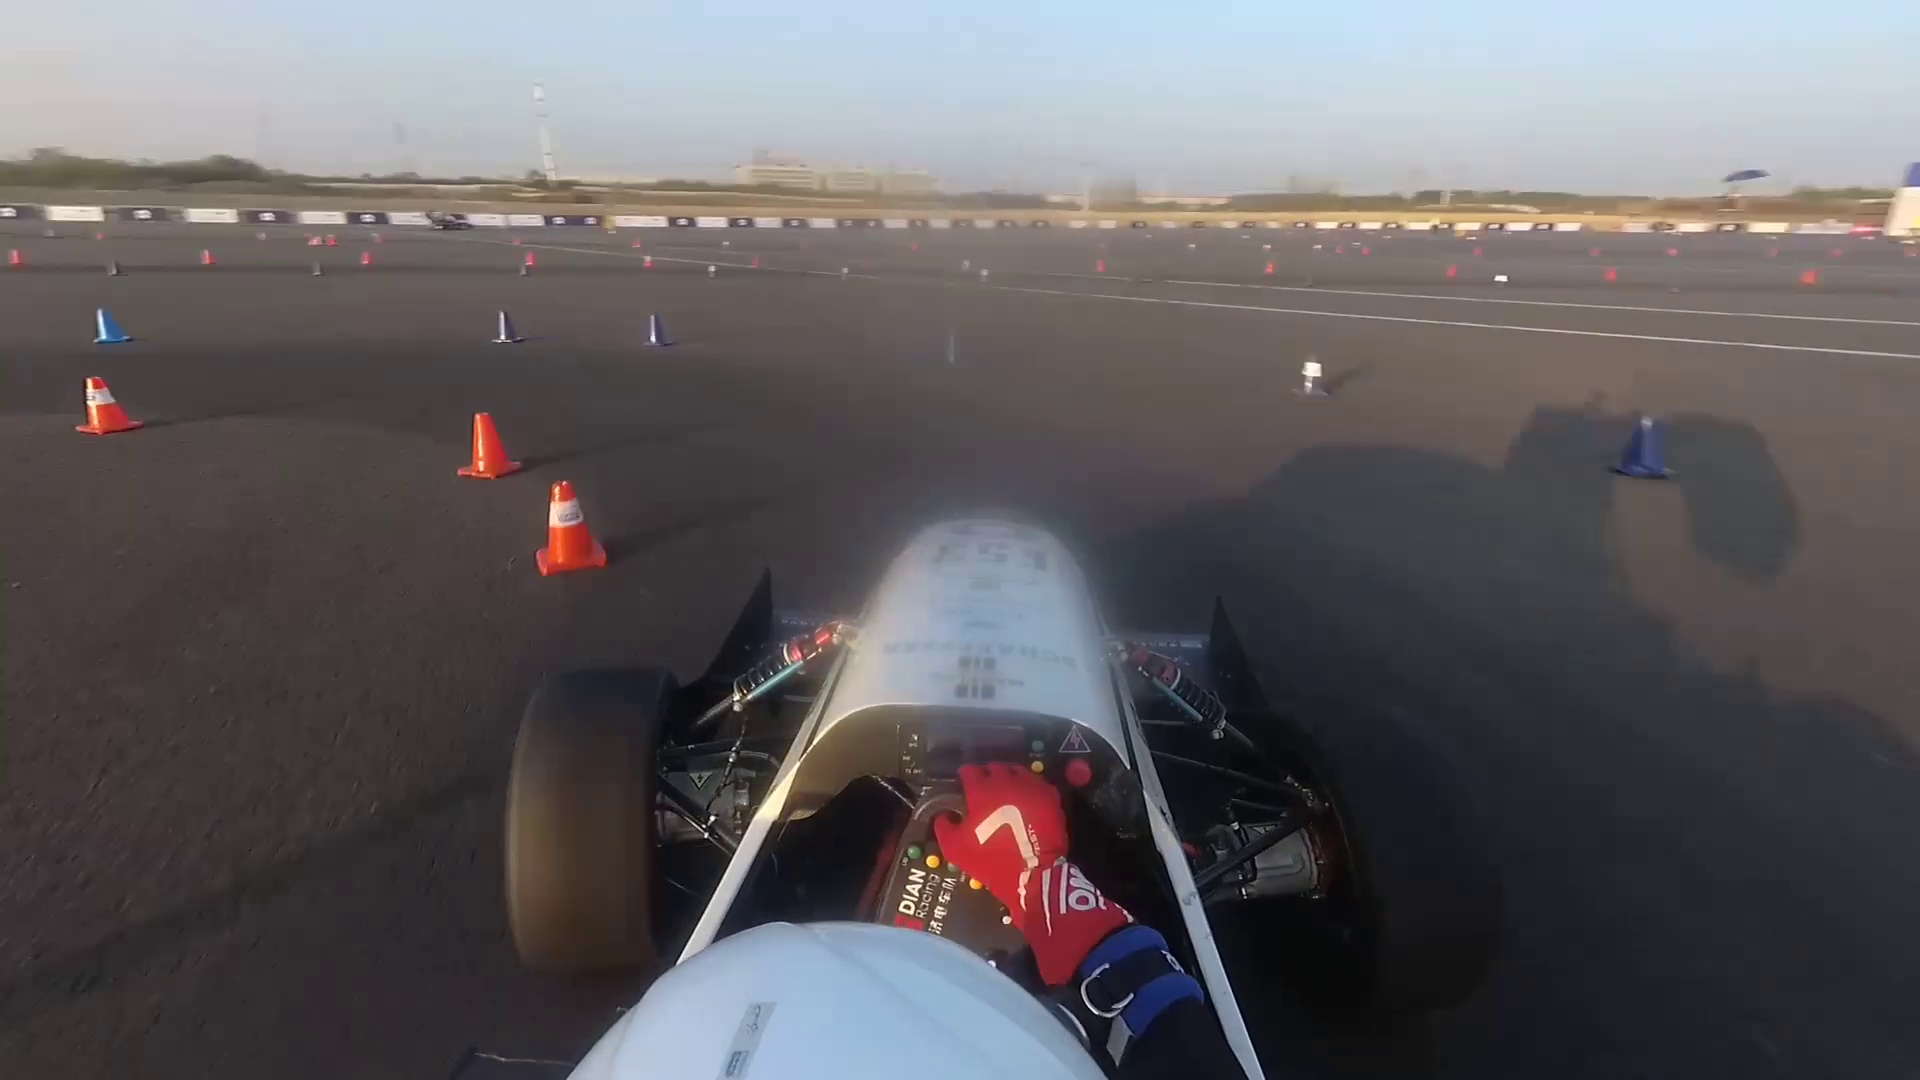blue_cone: (1623, 413, 1669, 484), (1302, 353, 1329, 404), (488, 309, 518, 344), (98, 311, 129, 342), (645, 315, 671, 344), (940, 328, 963, 360), (107, 260, 124, 277), (1495, 276, 1511, 289), (705, 264, 717, 280), (841, 266, 851, 280), (315, 262, 323, 277), (521, 264, 529, 276)
red_cone: (527, 484, 617, 578), (458, 411, 524, 484), (74, 377, 131, 436), (1803, 268, 1817, 286), (1444, 264, 1457, 284), (9, 249, 22, 266), (1605, 270, 1619, 284), (202, 251, 214, 266), (360, 251, 373, 264), (1263, 262, 1274, 276), (644, 255, 651, 266)
